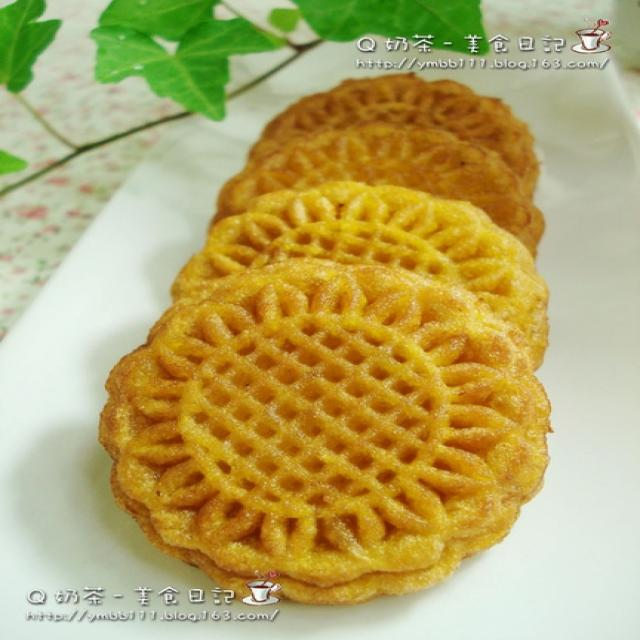炸货点心: (41, 23, 618, 629)
蛋糕甜品: (41, 23, 618, 629)
